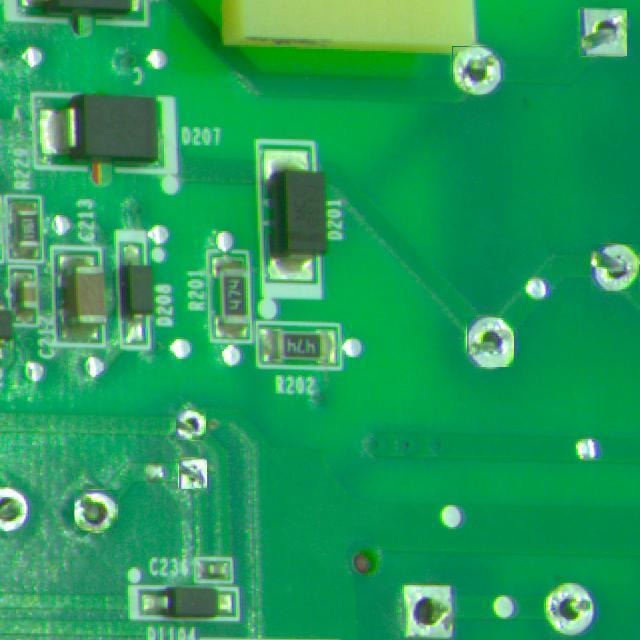oppostie_direction: (452, 46, 501, 94), (466, 318, 514, 366), (591, 244, 640, 291), (580, 9, 627, 55), (74, 491, 117, 531), (176, 411, 206, 440), (178, 459, 207, 489)
